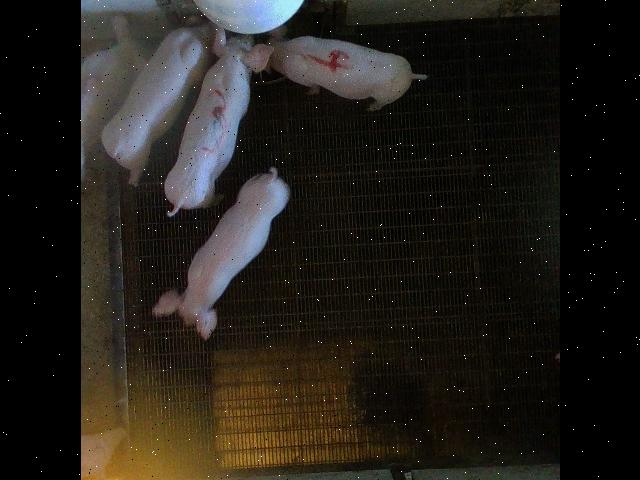pig-5: (269, 36, 426, 111)
